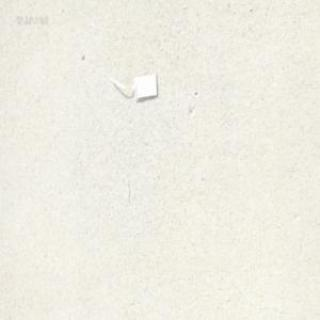LuggageTagtrack_idkeyframe: (107, 68, 160, 101)
